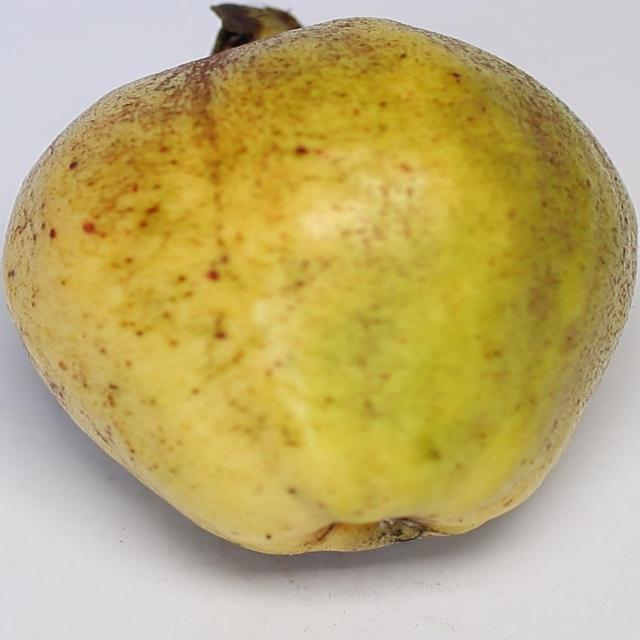Good_Guava: (2, 17, 639, 559)
